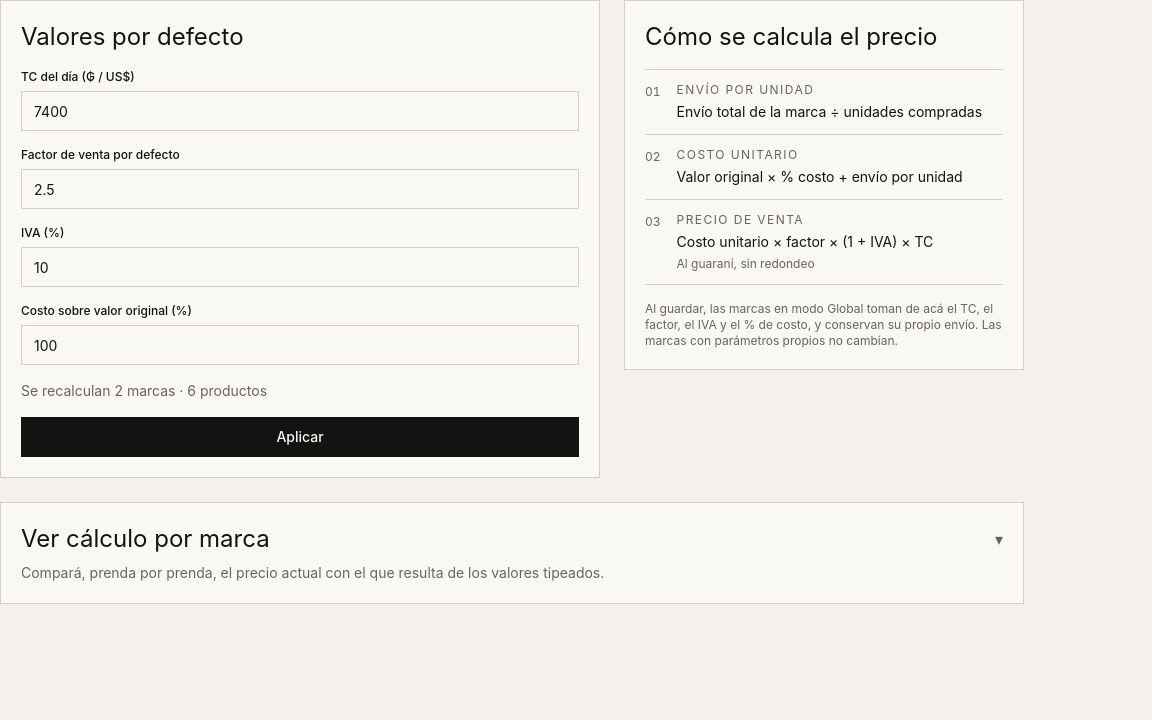
Scenario: SettingsForm › Ver cálculo por marca › expands when the hint under the title is clicked too
This screenshot has width=1152, height=720.
Click the text "Compará, prenda por prenda". click: (313,572)
box: [21,564,604,581]
(page scrolled)
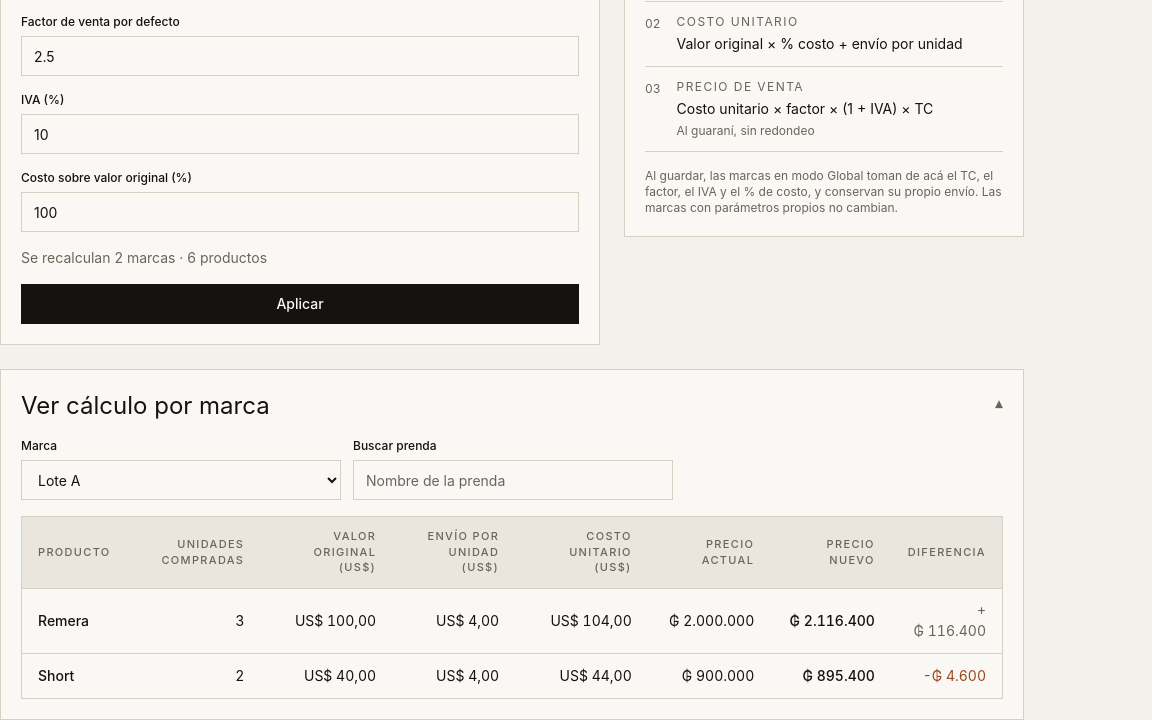
Expected: the button "Ver cálculo por marca ▾" is expanded, [21,390,1003,422]
Expected: the table named "Cálculo por marca" is shown, [22,517,1002,698]
